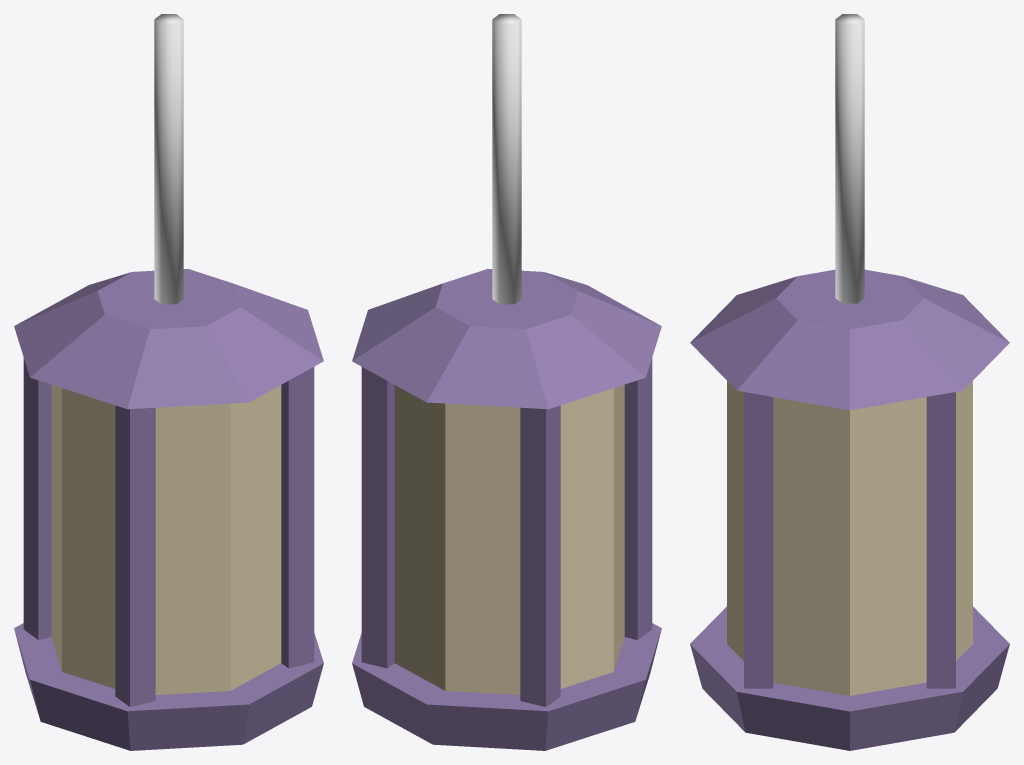
The model's file is ebonwood_lantern_v0.glb.
3 views of the same model, side by side, from view 1: azimuth 30°, elevation 25°; view 2: azimuth 150°, elevation 25°; view 3: azimuth 270°, elevation 25° (orthographic).
Parts seen in each view (by area): view 1: ebonwood_lantern_v0; view 2: ebonwood_lantern_v0; view 3: ebonwood_lantern_v0.
Boxes of the visible parts, x1,y1,x2,y2 form: ebonwood_lantern_v0: (14,14,323,750); ebonwood_lantern_v0: (352,14,661,750); ebonwood_lantern_v0: (690,14,1009,750).
Size of the model in its own units: 0.26 by 0.6 by 0.26.
